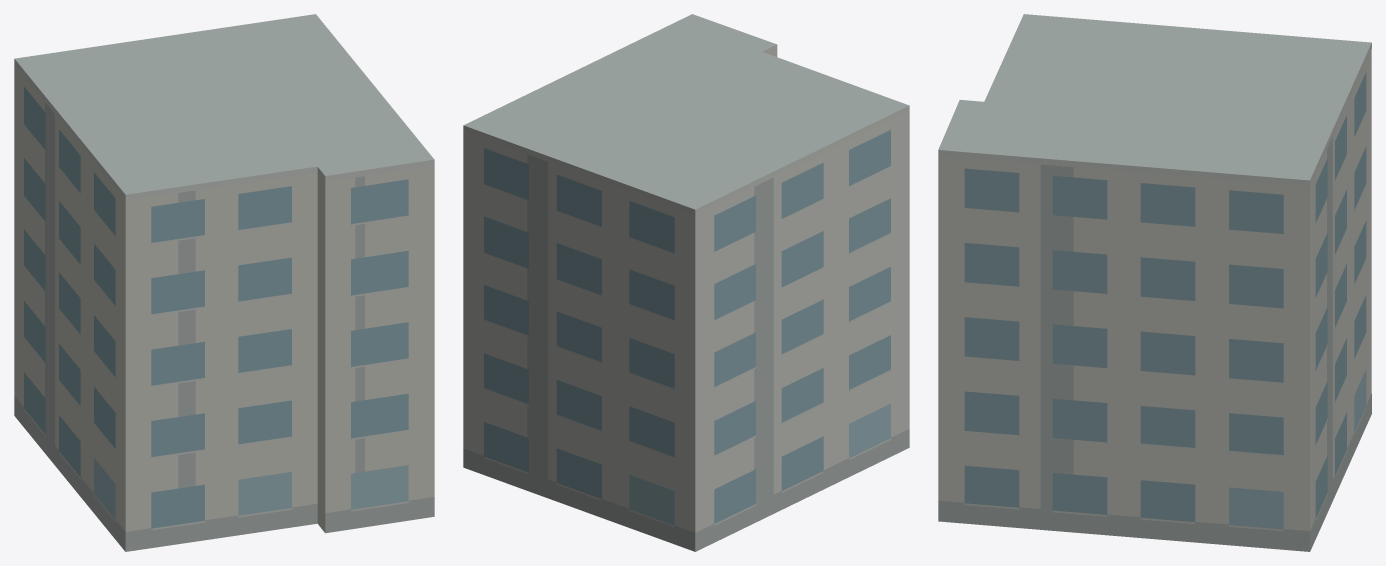
File: survey-upis-33028587.glb
The picture shows the model from 3 angles, left to right: view 1: azimuth 30°, elevation 25°; view 2: azimuth 150°, elevation 25°; view 3: azimuth 270°, elevation 25°; orthographic projection. The views are drawn at different scales.
Visible parts, largest first — view 1: survey-upis-33028587.tmp; view 2: survey-upis-33028587.tmp; view 3: survey-upis-33028587.tmp.
Boxes of the visible parts, x1,y1,x2,y2 form: survey-upis-33028587.tmp: [14, 14, 434, 551]; survey-upis-33028587.tmp: [463, 14, 909, 551]; survey-upis-33028587.tmp: [938, 14, 1371, 551].
Size of the model in its own units: 13.99 by 14.55 by 15.4.
